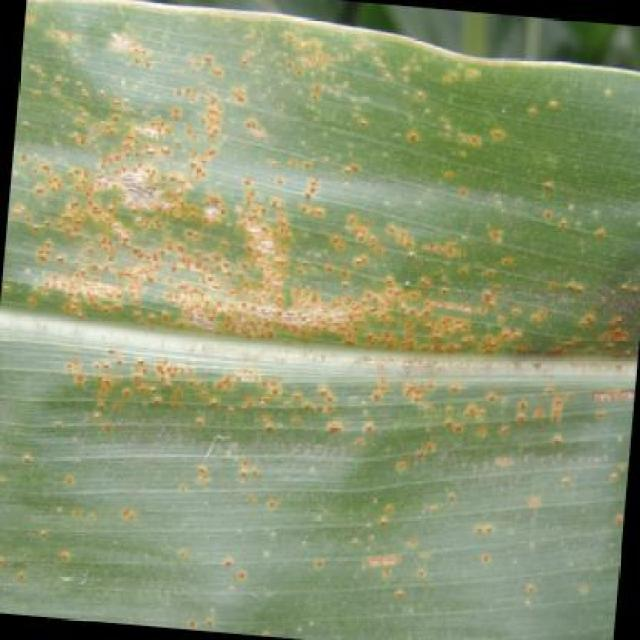Corn_Rust: (37, 39, 614, 598)
